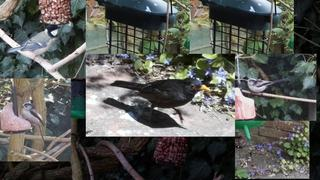blackbird: (110, 78, 211, 127)
great tit: (6, 24, 62, 65)
long tailed tit: (21, 102, 47, 152), (246, 78, 292, 96)
